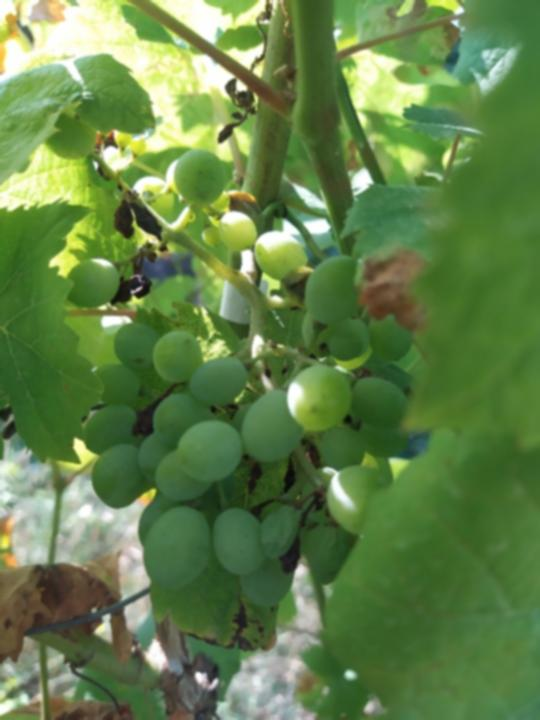grape: (67, 148, 414, 611)
